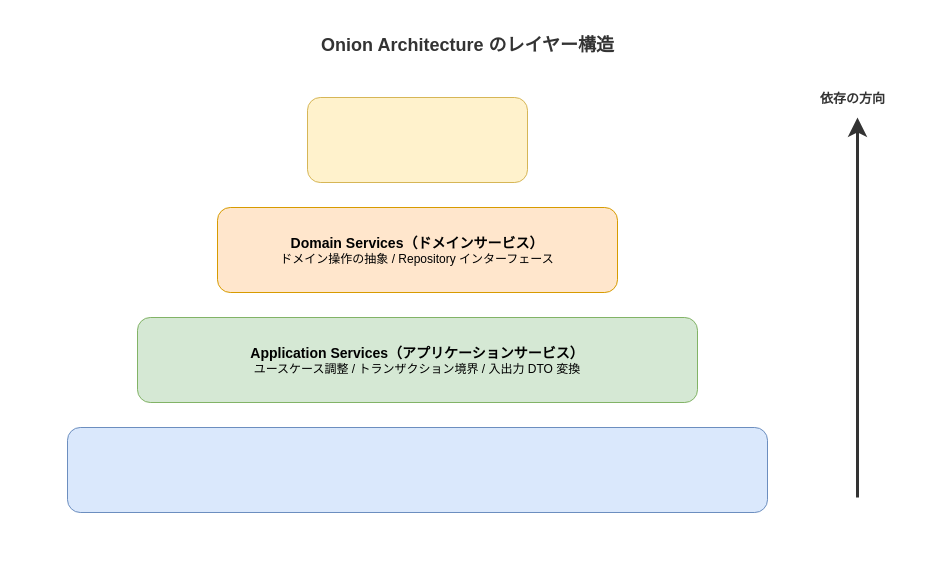
Some shapes in this 934 by 574 pixel diagram are drawn without their labels. Here are the shapes that lost their labels. From the top down, the centre of each, then its label:
At (417,139): "Domain Model（ドメインモデル） Entity / Value Object".
At (417,469): "Infrastructure / UI / Tests（最外層） DB / Web / 外部 API / フレームワーク / テストハーネス".
